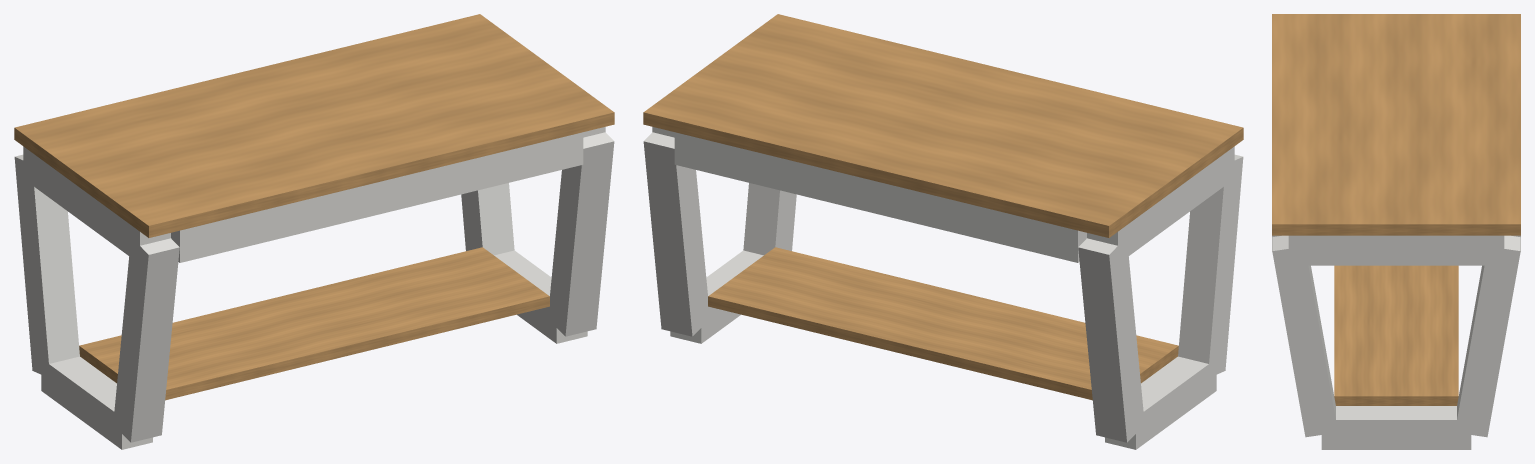
File: mesa-living-nord-estante-miel-blanco.glb
The picture shows the model from 3 angles, left to right: view 1: azimuth 30°, elevation 25°; view 2: azimuth 150°, elevation 25°; view 3: azimuth 270°, elevation 25°; orthographic projection. The views are drawn at different scales.
Visible parts, largest first — view 1: Tapa de madera maciza 120 x 60 x 3 cm, Pata inclinada hacia adentro, perfil 80 x 80 mm (×4), Estante inferior de madera (proporción aproximada), Larguero longitudinal superior de hierro 80 x 80 mm, Travesaño inferior del trapecio, ancho exterior 44 cm (×2), Travesaño superior del trapecio, ancho exterior 60 cm; view 2: Tapa de madera maciza 120 x 60 x 3 cm, Pata inclinada hacia adentro, perfil 80 x 80 mm (×4), Estante inferior de madera (proporción aproximada), Larguero longitudinal superior de hierro 80 x 80 mm, Travesaño inferior del trapecio, ancho exterior 44 cm (×2), Travesaño superior del trapecio, ancho exterior 60 cm; view 3: Tapa de madera maciza 120 x 60 x 3 cm, Estante inferior de madera (proporción aproximada), Pata inclinada hacia adentro, perfil 80 x 80 mm (×2), Travesaño superior del trapecio, ancho exterior 60 cm, Travesaño inferior del trapecio, ancho exterior 44 cm.
Part boxes in pixels (x1,y1,x2,y2): Tapa de madera maciza 120 x 60 x 3 cm: [14, 14, 614, 237]; Pata inclinada hacia adentro, perfil 80 x 80 mm (×4): [14, 132, 614, 442]; Estante inferior de madera (proporción aproximada): [79, 247, 549, 400]; Larguero longitudinal superior de hierro 80 x 80 mm: [171, 132, 583, 262]; Travesaño inferior del trapecio, ancho exterior 44 cm (×2): [41, 250, 587, 449]; Travesaño superior del trapecio, ancho exterior 60 cm: [23, 146, 170, 263]; Tapa de madera maciza 120 x 60 x 3 cm: [643, 14, 1243, 237]; Pata inclinada hacia adentro, perfil 80 x 80 mm (×4): [643, 132, 1243, 442]; Estante inferior de madera (proporción aproximada): [708, 247, 1178, 400]; Larguero longitudinal superior de hierro 80 x 80 mm: [674, 132, 1086, 262]; Travesaño inferior del trapecio, ancho exterior 44 cm (×2): [670, 250, 1216, 449]; Travesaño superior del trapecio, ancho exterior 60 cm: [1087, 146, 1234, 263]; Tapa de madera maciza 120 x 60 x 3 cm: [1272, 14, 1520, 235]; Estante inferior de madera (proporción aproximada): [1334, 265, 1458, 405]; Pata inclinada hacia adentro, perfil 80 x 80 mm (×2): [1272, 235, 1520, 437]; Travesaño superior del trapecio, ancho exterior 60 cm: [1288, 235, 1504, 265]; Travesaño inferior del trapecio, ancho exterior 44 cm: [1321, 406, 1471, 449].
Bounding box in the file's own units: 1.2 × 0.6 × 0.6.
2 materials, 1 textured.
